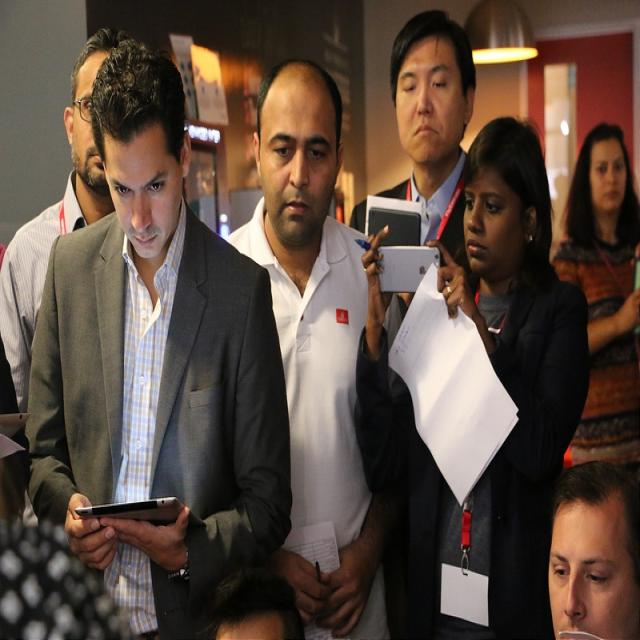body: (21, 36, 294, 639), (347, 110, 591, 639), (214, 54, 398, 640), (0, 235, 142, 639), (347, 4, 497, 338), (0, 27, 126, 414), (550, 120, 640, 468), (546, 456, 640, 639), (192, 557, 311, 639)
